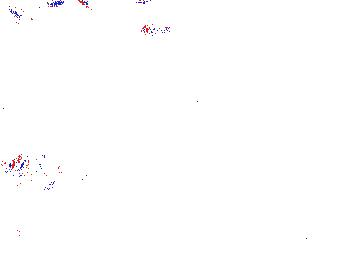X-ray fish: (154, 135, 228, 167), (43, 164, 96, 197), (14, 153, 45, 189)
red belly glassfish: (141, 22, 178, 39)
